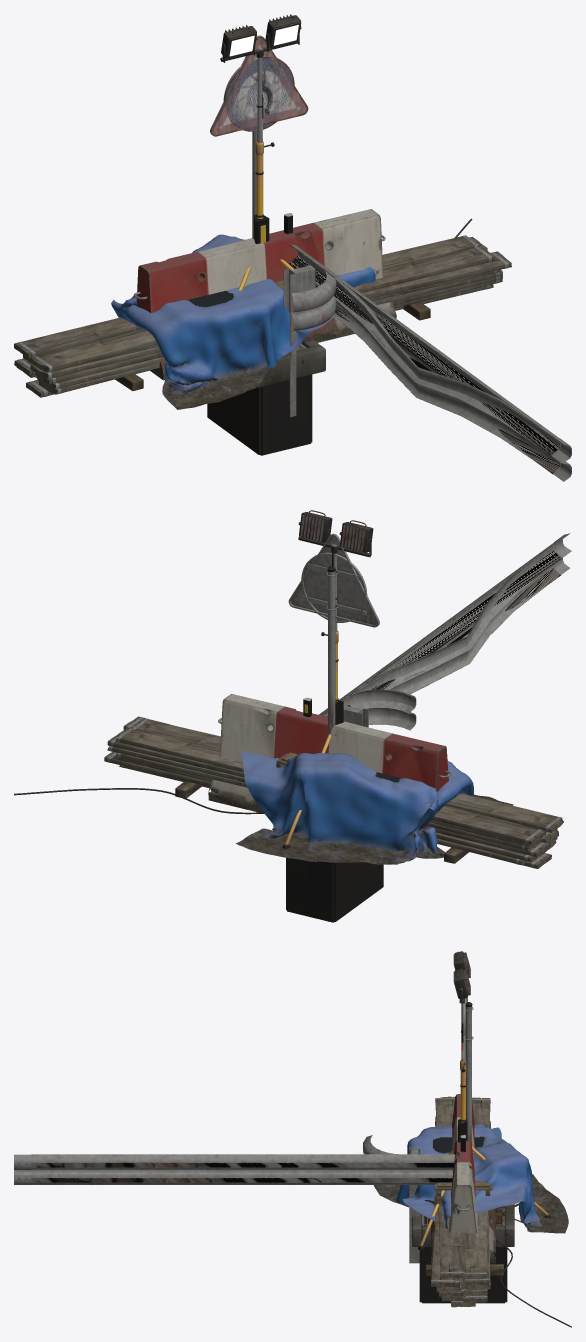
Rendered from props.glb.
The picture shows the model from 3 angles, top to bottom: view 1: azimuth 30°, elevation 25°; view 2: azimuth 150°, elevation 25°; view 3: azimuth 270°, elevation 25°; orthographic projection. The views are drawn at different scales.
Visible parts, largest first — view 1: plank_stack, tarp_pile, barrier, culvert_grate, guardrail_bent, sign_bend, guardrail_lod, sign_chains, guardrail_end, lamp_head, guardrail, light_tower; view 2: tarp_pile, plank_stack, barrier, guardrail_bent, sign_bend, culvert_grate, guardrail_lod, guardrail_end, lamp_head, guardrail, sign_chains, light_tower; view 3: guardrail, tarp_pile, plank_stack, guardrail_lod, barrier, culvert_grate, guardrail_end, light_tower, sign_bend, lamp_head, crate.
Part boxes in pixels (x1,y1,x2,y2): plank_stack: (14, 235, 511, 394); tarp_pile: (111, 234, 375, 409); barrier: (134, 209, 396, 380); culvert_grate: (207, 340, 325, 455); guardrail_bent: (295, 248, 571, 481); sign_bend: (210, 35, 308, 238); guardrail_lod: (289, 244, 560, 473); sign_chains: (223, 57, 294, 131); guardrail_end: (283, 244, 336, 417); lamp_head: (220, 14, 301, 62); guardrail: (290, 244, 571, 481); light_tower: (238, 47, 472, 290); tarp_pile: (235, 750, 513, 864); plank_stack: (104, 716, 563, 865); barrier: (208, 694, 451, 829); guardrail_bent: (322, 533, 570, 716); sign_bend: (288, 533, 379, 733); culvert_grate: (286, 833, 383, 922); guardrail_lod: (322, 541, 561, 716); guardrail_end: (319, 689, 416, 730); lamp_head: (298, 510, 373, 557); guardrail: (321, 533, 571, 715); sign_chains: (301, 552, 367, 622); light_tower: (14, 544, 338, 848); guardrail: (14, 1154, 454, 1184); tarp_pile: (374, 1124, 568, 1233); plank_stack: (426, 1096, 503, 1302); guardrail_lod: (31, 1162, 454, 1182); barrier: (431, 1094, 495, 1263); culvert_grate: (412, 1203, 522, 1303); guardrail_end: (363, 1135, 454, 1263); light_tower: (418, 998, 571, 1327); sign_bend: (463, 998, 473, 1144); lamp_head: (453, 951, 470, 1003); crate: (434, 1181, 492, 1224).
Size of the model in its own units: 4.4 by 3.38 by 5.16.
6 materials, 4 textured.
